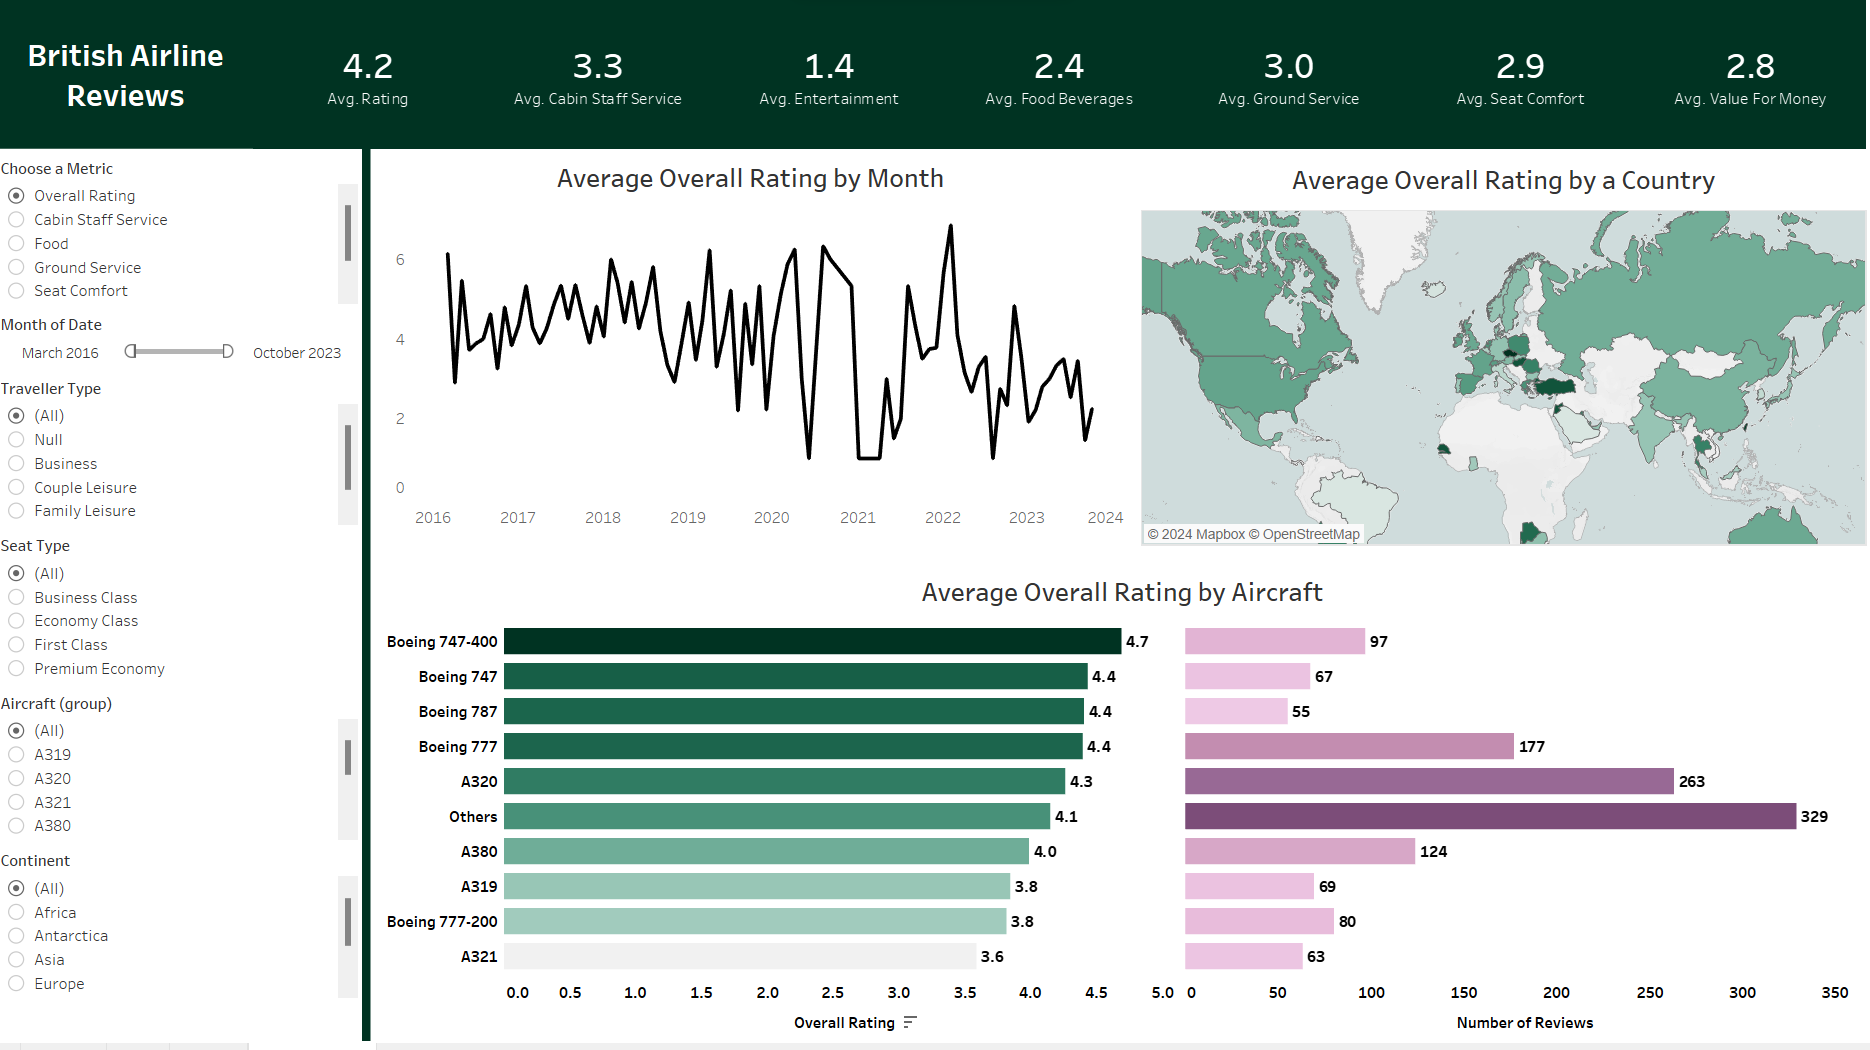

The page's visual inventory and layout, read from the dashboard file:
{"tool":"tableau","page":{"name":"Dashboard 1","canvas":[1000,1000],"units":"permille","ordinal":0},"visuals":[{"type":"text","box":[0,0,138.6,142.9]},{"type":"worksheet","title":"Summary","mark":"Automatic","box":[137.5,0,860.2,142.9]},{"type":"blank","box":[195.6,142.9,4.6,855.7]},{"type":"parameter","param":"[Parameters].[Parameter 1]","box":[0,145.7,196.3,143.4]},{"type":"worksheet","title":"Month","mark":"Automatic","rows":["Calculation_1239334374853271552"],"cols":["date"],"box":[202.4,148.6,400.3,374.3]},{"type":"worksheet","title":"Map","mark":"Automatic","box":[610.4,150,387.3,374.3]},{"type":"filter","title":"Map","param":"[federated.05ei2ry08y6o0u1ejwgh41l4tfy8].[tmn:date:qk]","box":[0,289.1,196.3,98.6]},{"type":"filter","title":"Map","param":"[federated.05ei2ry08y6o0u1ejwgh41l4tfy8].[none:traveller_type:nk]","box":[0,387.7,196.3,143.4]},{"type":"filter","title":"Map","param":"[federated.05ei2ry08y6o0u1ejwgh41l4tfy8].[none:seat_type:nk]","box":[0,531.1,196.3,143.4]},{"type":"worksheet","title":"Aircrafts","mark":"Automatic","cols":["Calculation_1239334374853271552","ba_reviews.csv_510BCD3BFB374EAC80C8F551FB773BBA"],"box":[204.7,545.7,793,452.9]},{"type":"filter","title":"Map","param":"[federated.05ei2ry08y6o0u1ejwgh41l4tfy8].[Aircraft (group)]","box":[0,674.5,196.3,143.4]},{"type":"filter","title":"Map","param":"[federated.05ei2ry08y6o0u1ejwgh41l4tfy8].[none:Continent:nk]","box":[0,818,196.3,143.5]}]}

Visuals, with their boxes on the dashboard's canvas, which has no fixed pixel size, in thousandths of its width and height (x1, y1, x2, y2). These are canvas units, not pixel positions in the 1870x1050 screenshot, which may show the page scaled, cropped or inside an application window:
text: [x1=0, y1=0, x2=139, y2=143]
"Summary" worksheet: [x1=138, y1=0, x2=998, y2=143]
blank: [x1=196, y1=143, x2=200, y2=999]
parameter: [x1=0, y1=146, x2=196, y2=289]
"Month" worksheet: [x1=202, y1=149, x2=603, y2=523]
"Map" worksheet: [x1=610, y1=150, x2=998, y2=524]
"Map" filter: [x1=0, y1=289, x2=196, y2=388]
"Map" filter: [x1=0, y1=388, x2=196, y2=531]
"Map" filter: [x1=0, y1=531, x2=196, y2=674]
"Aircrafts" worksheet: [x1=205, y1=546, x2=998, y2=999]
"Map" filter: [x1=0, y1=674, x2=196, y2=818]
"Map" filter: [x1=0, y1=818, x2=196, y2=962]
